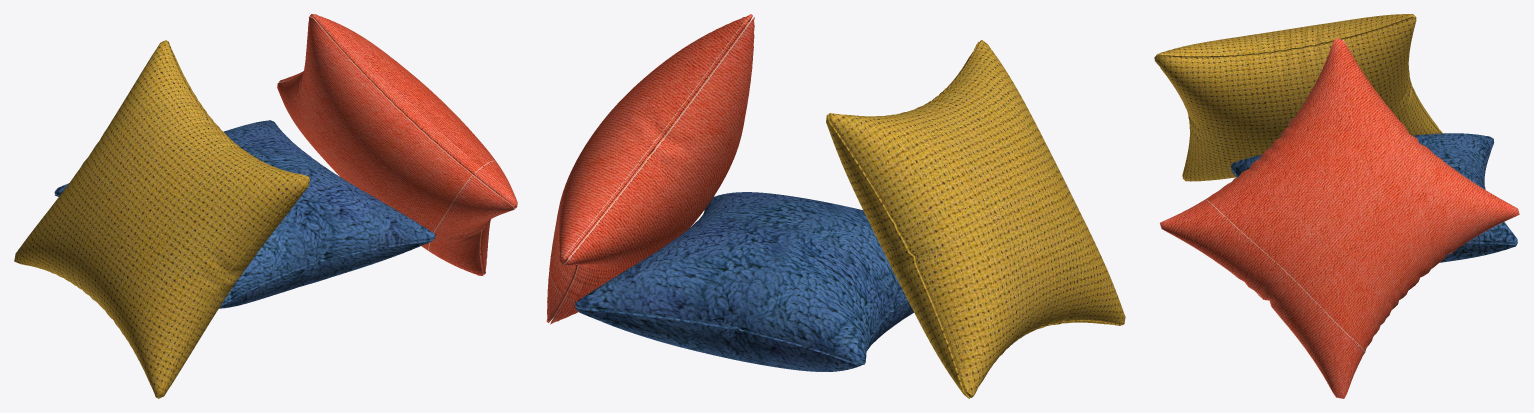
The model's file is pillow.fbx.
3 renders of one model, left to right at view 1: azimuth 30°, elevation 25°; view 2: azimuth 150°, elevation 25°; view 3: azimuth 270°, elevation 25°, orthographic. The views are drawn at different scales.
Parts seen in each view (by area): view 1: Box003, Box002, Box001; view 2: Box003, Box001, Box002; view 3: Box002, Box003, Box001.
Boxes of the visible parts, box(x1,y1,x2,y2) form: Box003: box(14, 40, 310, 398); Box002: box(277, 14, 517, 275); Box001: box(54, 120, 435, 308); Box003: box(826, 40, 1125, 398); Box001: box(574, 192, 913, 371); Box002: box(546, 14, 754, 324); Box002: box(1160, 38, 1519, 398); Box003: box(1154, 14, 1442, 181); Box001: box(1230, 133, 1517, 262).
Bounding box in the file's own units: 84.71 × 58.86 × 68.6.
3 materials, 3 textured.
